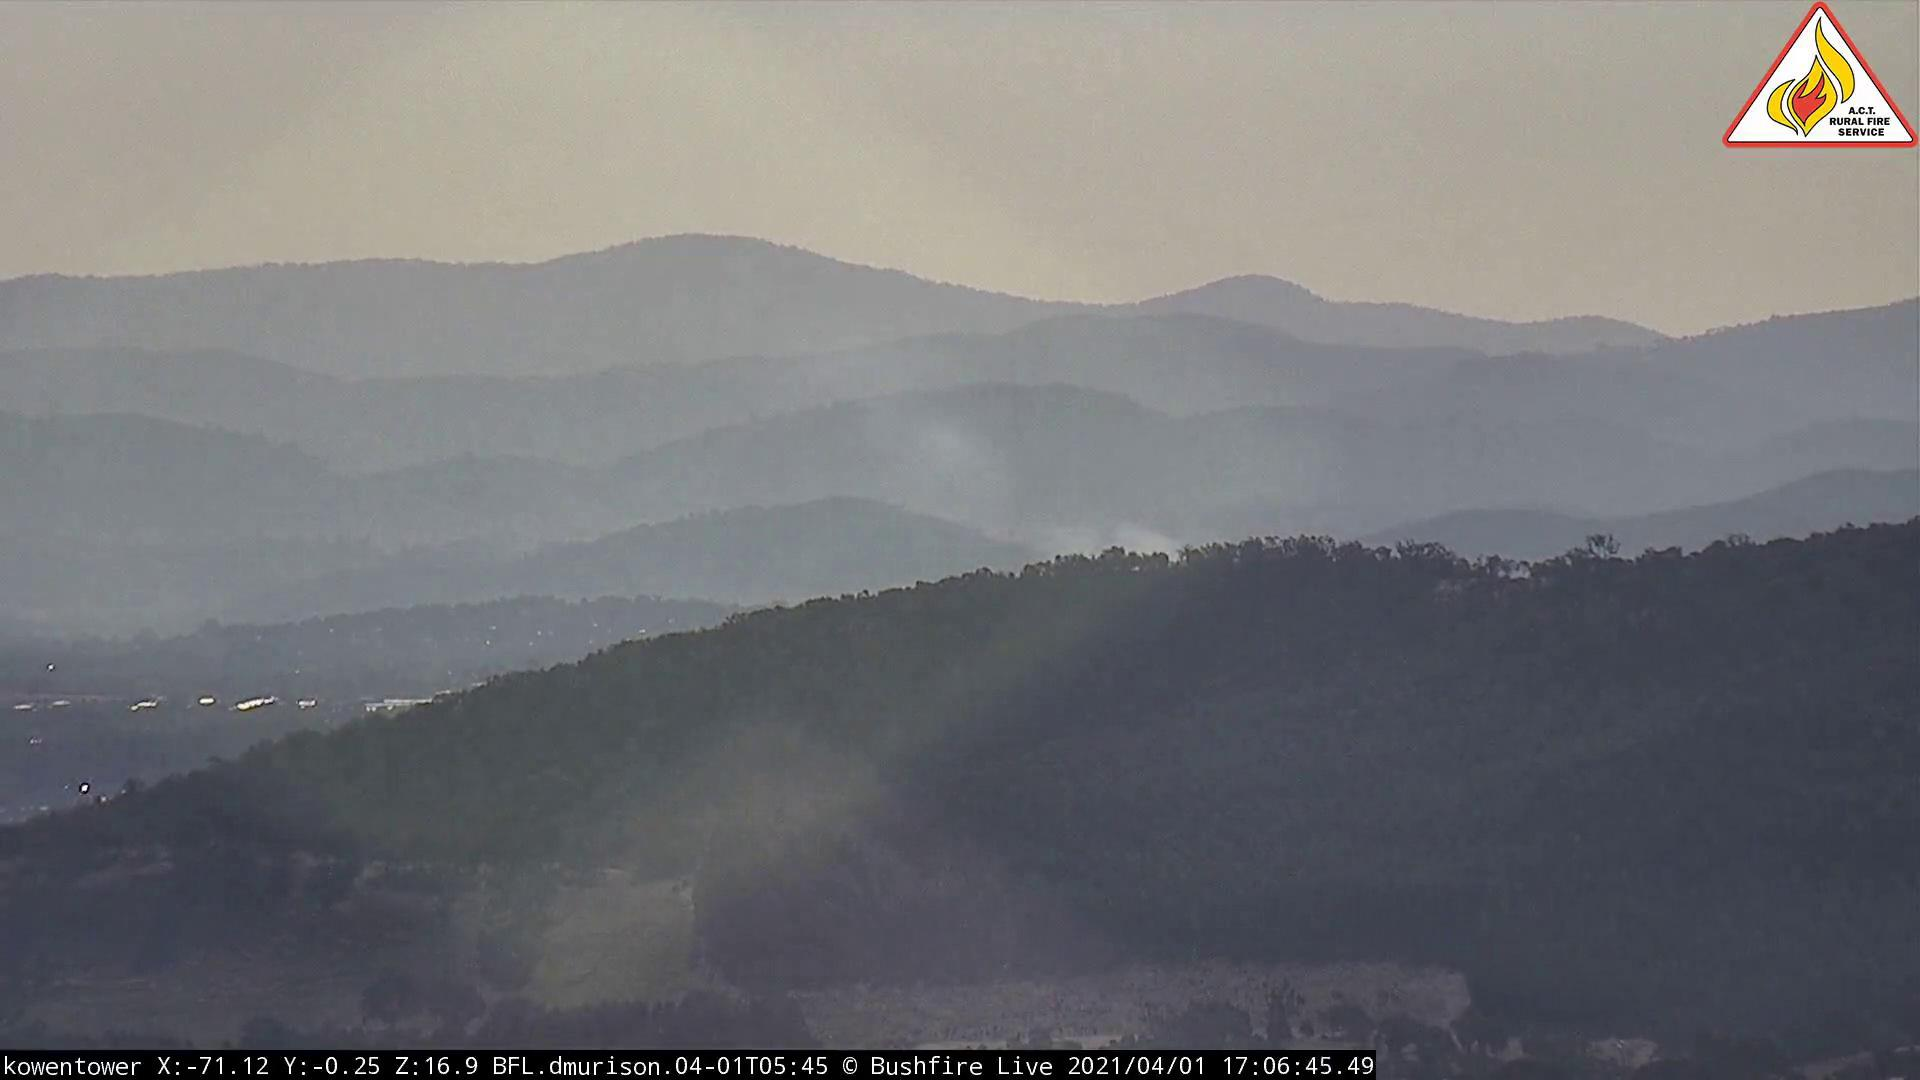Smoke: (897, 419, 1254, 612)
